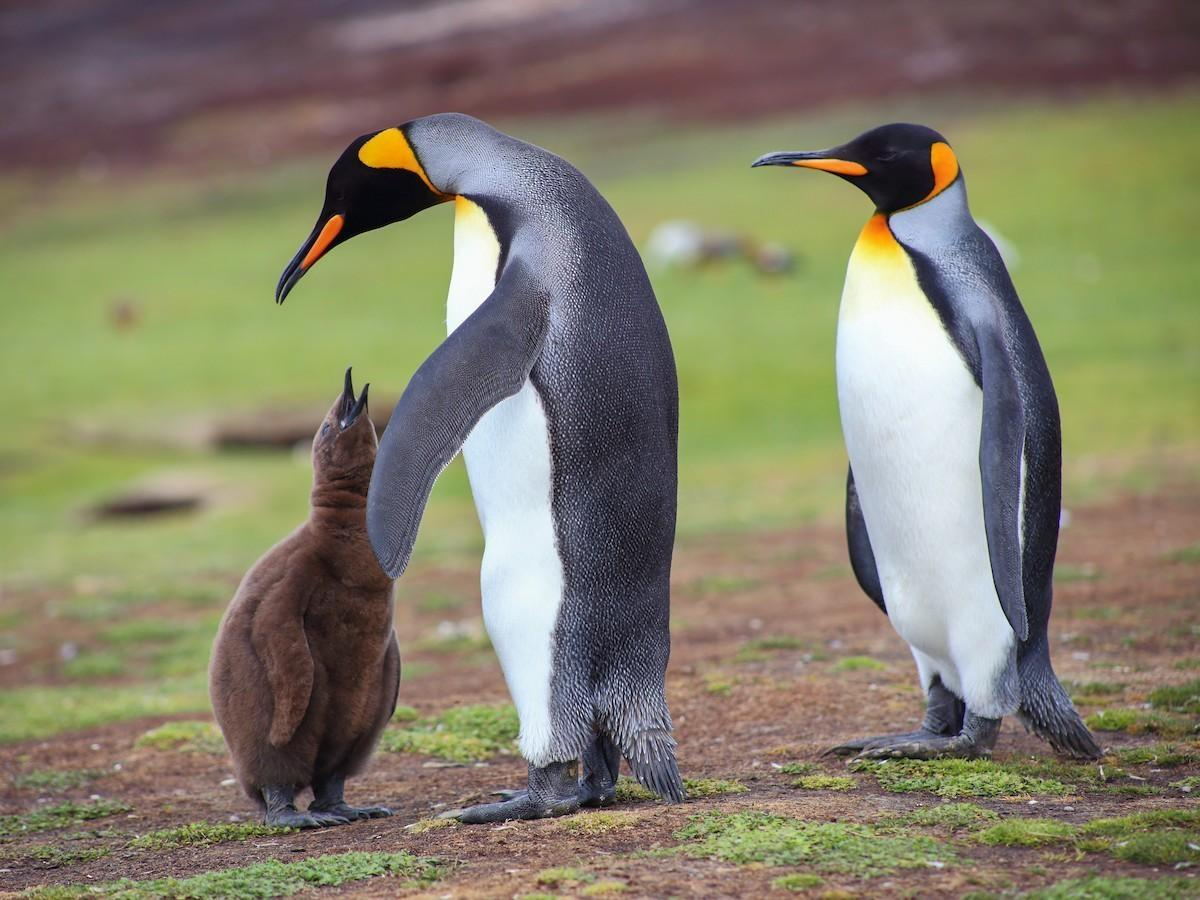Penguin: (277, 115, 684, 822), (755, 124, 1101, 759), (209, 368, 401, 827)
